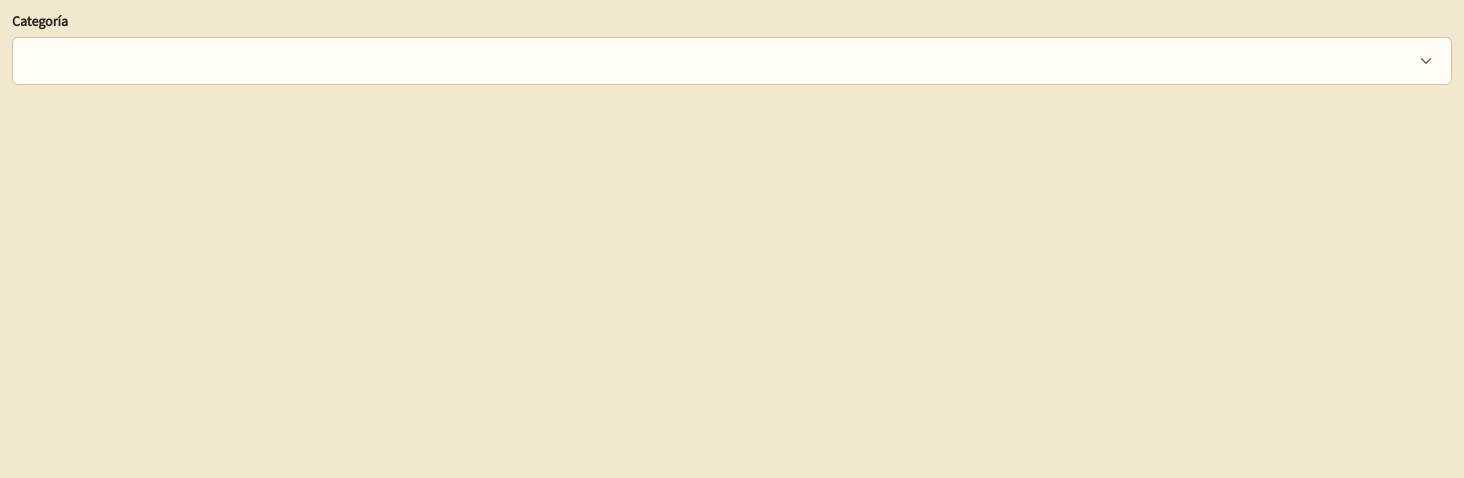
Test: SelectorConBuscador › elegir llama a alCambiar y cierra
The width and height of the screenshot is (1464, 478).
Step 1. Click the dropdown named "Categoría" → [1426, 61], box [12, 37, 1452, 85]
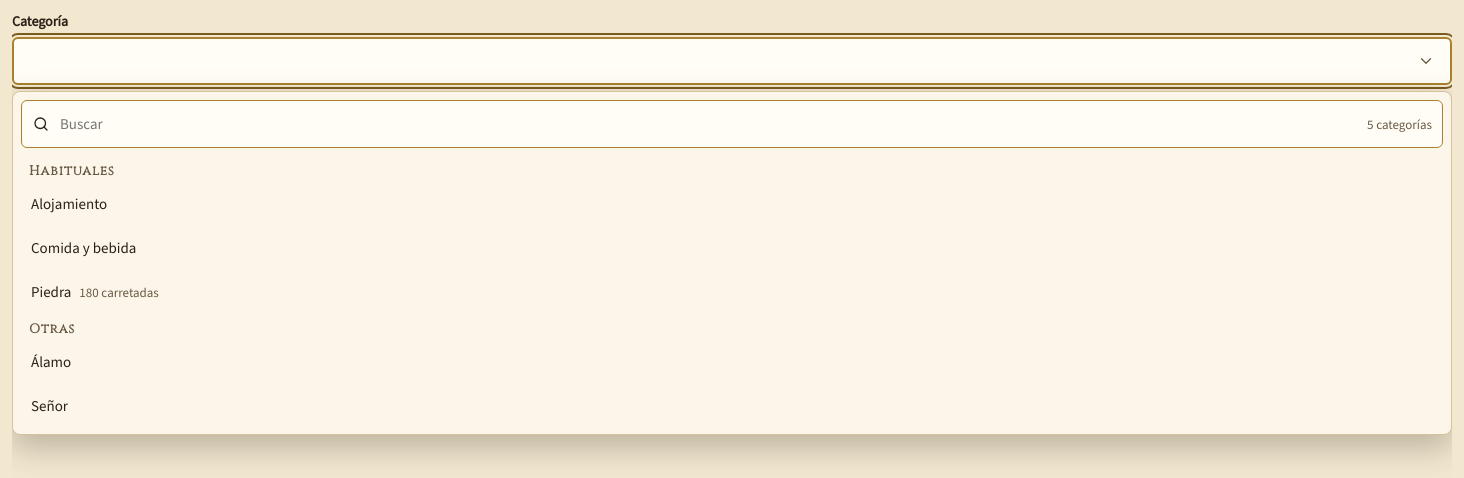
Step 2. Click the option "Comida y bebida" → [84, 248], box [31, 238, 136, 258]
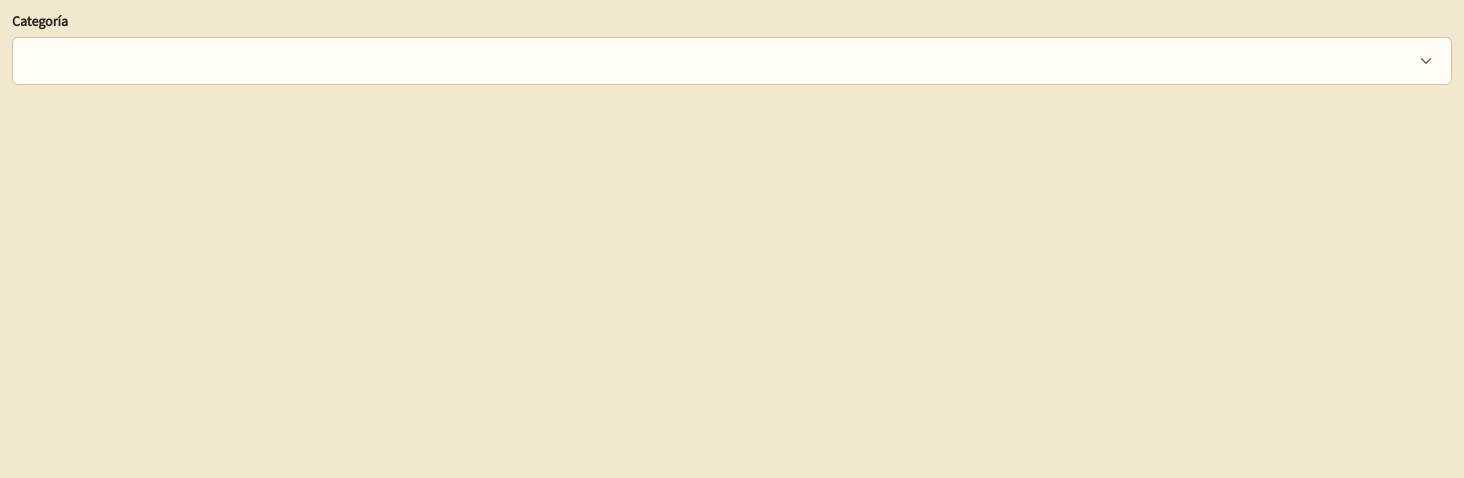
Now the list is gone
